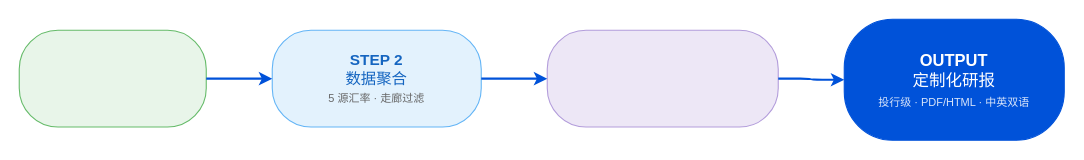
The diagram is 1084 pixels wide and 160 high, and some of its shapes have lost their labels. Here are the shapes that lost their labels. From the top down, the box of each, then its label:
(18, 29, 206, 127): STEP 1 选择客户 画像 · 走廊 · Tier 分级
(546, 29, 778, 127): STEP 3 AI 分析 + 知识库 新闻搜索 · 评论生成 · 可编辑
